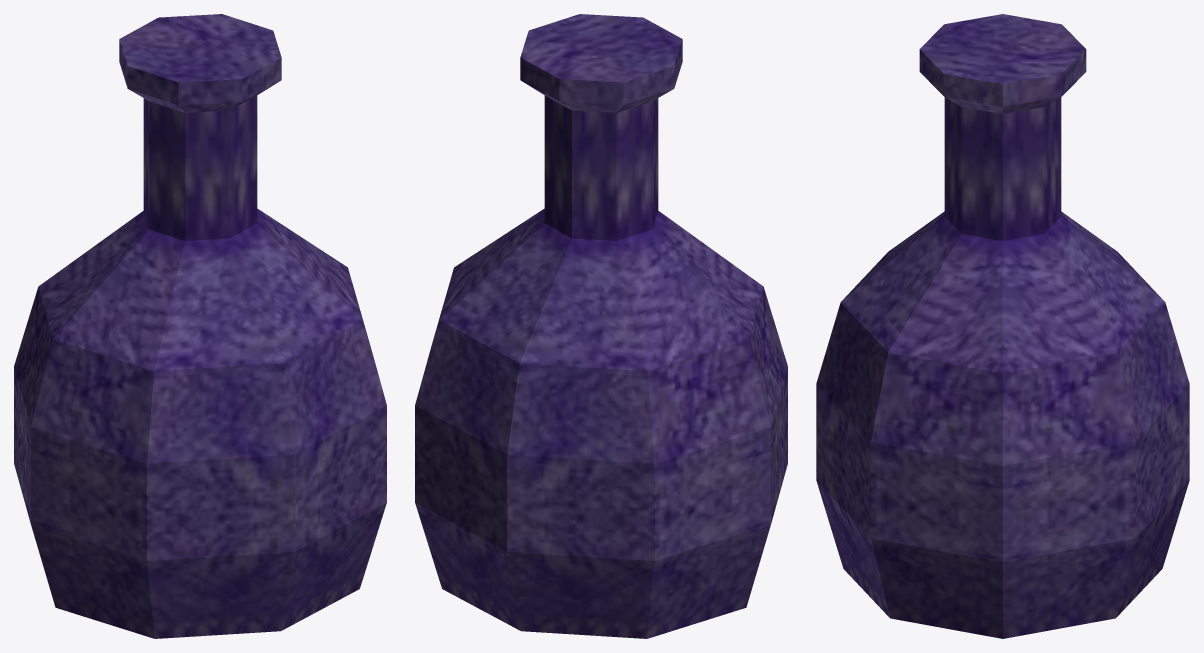
File: GS_SOK_JAGODY_01_SZCZAWIK.glb
3 renders of one model, left to right at view 1: azimuth 30°, elevation 25°; view 2: azimuth 150°, elevation 25°; view 3: azimuth 270°, elevation 25°, orthographic.
Parts seen in each view (by area): view 1: GS_SOK_JAGODY_01_SZCZAWIK; view 2: GS_SOK_JAGODY_01_SZCZAWIK; view 3: GS_SOK_JAGODY_01_SZCZAWIK.
Part boxes in pixels (x1,y1,x2,y2): GS_SOK_JAGODY_01_SZCZAWIK: (14,14,386,638); GS_SOK_JAGODY_01_SZCZAWIK: (415,14,787,638); GS_SOK_JAGODY_01_SZCZAWIK: (816,14,1189,638).
Size of the model in its own units: 0.1911 by 0.2822 by 0.1838.
1 material, 1 textured.
